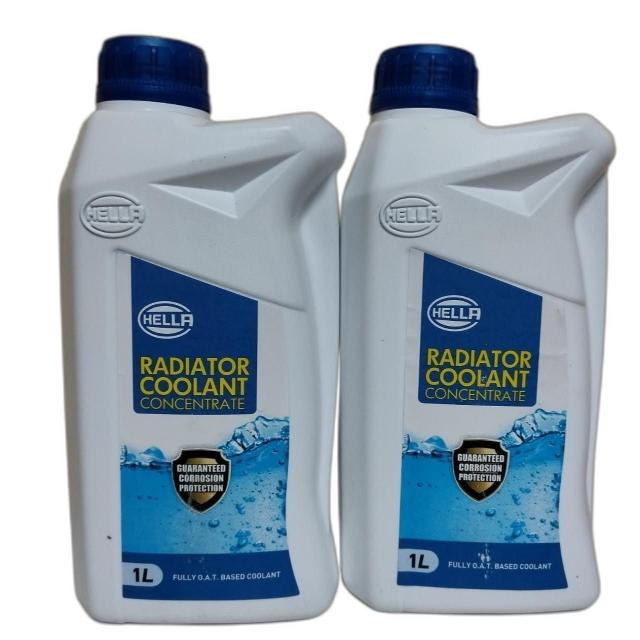coolant: (65, 28, 349, 631), (354, 38, 619, 616)
